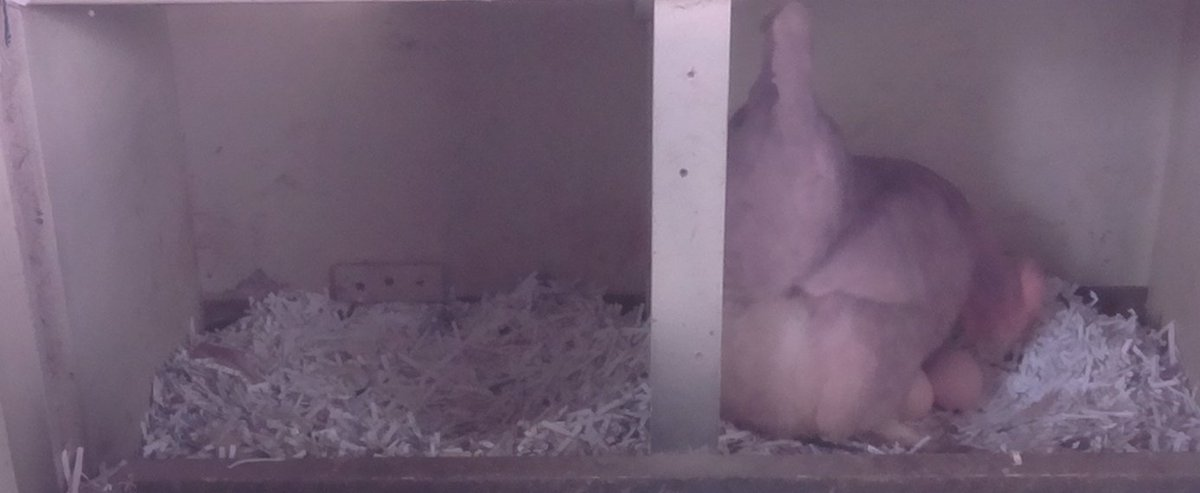egg: (925, 348, 993, 418), (899, 365, 940, 427)
hen: (732, 62, 1056, 442)
